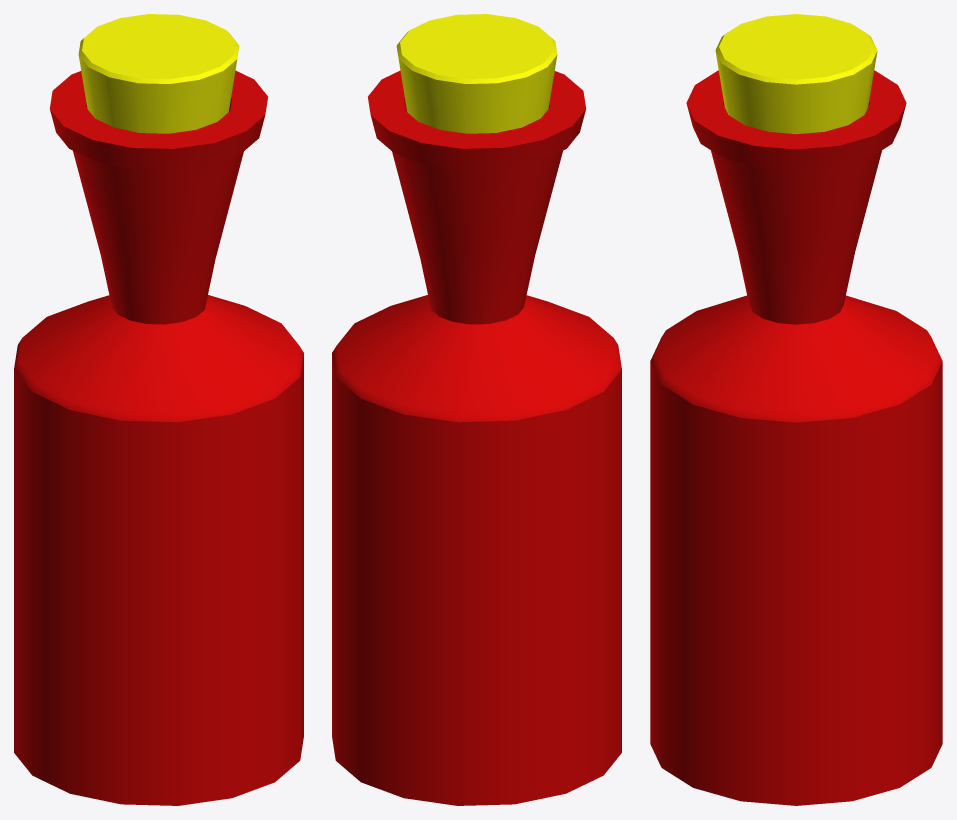
The model's file is Abbie - ChemicalBottle4Orange.fbx.
The picture shows the model from 3 angles, left to right: view 1: azimuth 30°, elevation 25°; view 2: azimuth 150°, elevation 25°; view 3: azimuth 270°, elevation 25°; orthographic projection.
Parts seen in each view (by area): view 1: bottle4; view 2: bottle4; view 3: bottle4.
Boxes of the visible parts, x1,y1,x2,y2 form: bottle4: [14, 14, 303, 805]; bottle4: [332, 14, 621, 805]; bottle4: [650, 14, 942, 805].
Size of the model in its own units: 4.72 by 12.43 by 4.72.
